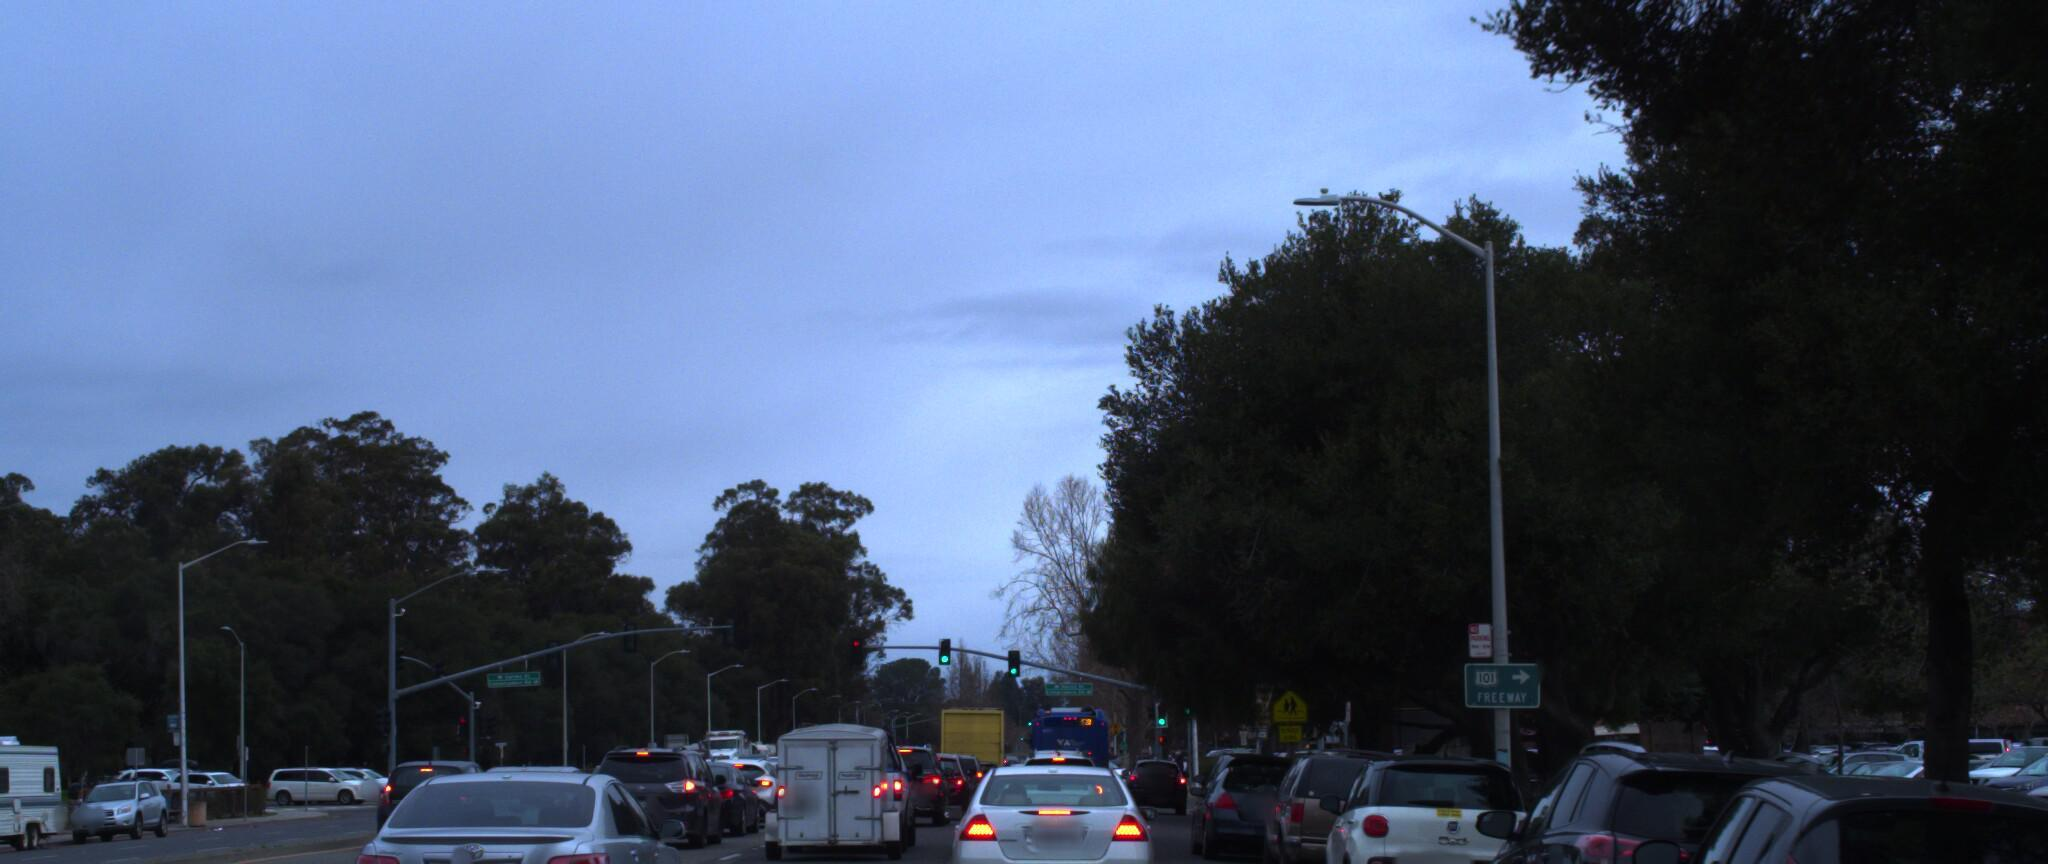car: (1455, 717, 1933, 864), (1586, 757, 2048, 864), (321, 748, 700, 864), (1297, 732, 1544, 864), (1245, 728, 1442, 864), (948, 747, 1161, 864), (763, 709, 927, 857), (453, 747, 622, 864), (1177, 748, 1322, 857), (586, 732, 726, 844), (355, 750, 503, 847), (863, 722, 957, 814), (684, 741, 790, 814), (2000, 801, 2048, 864)
other_vehicle: (0, 717, 78, 857)
